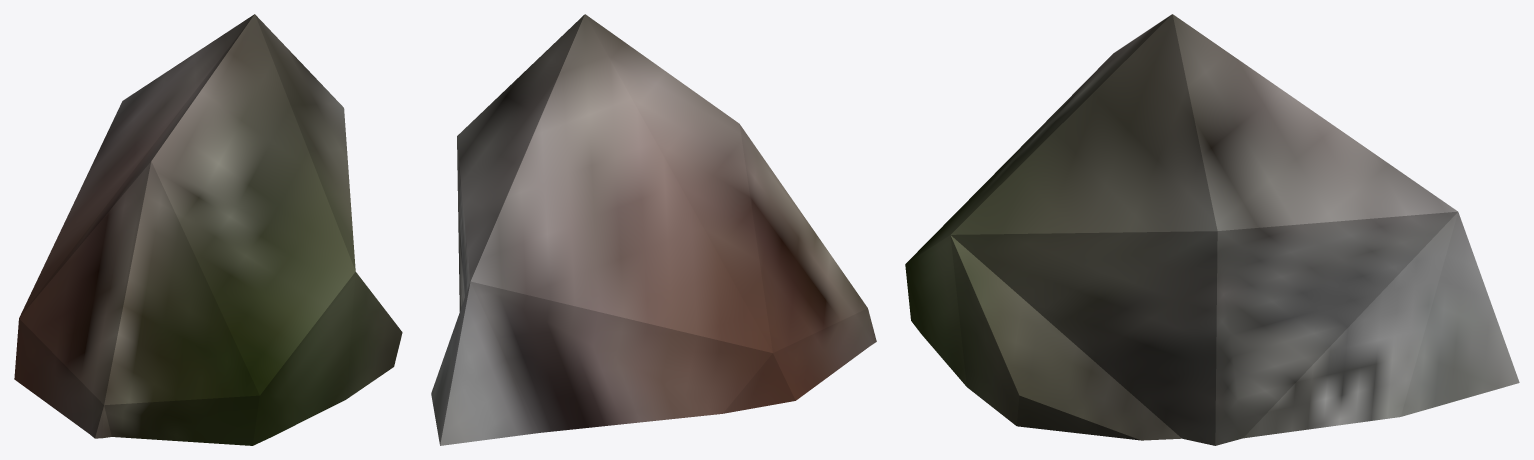
The picture shows the model from 3 angles, left to right: view 1: azimuth 30°, elevation 25°; view 2: azimuth 150°, elevation 25°; view 3: azimuth 270°, elevation 25°; orthographic projection. The views are drawn at different scales.
Bounding box in the file's own units: 0.0486 × 0.0446 × 0.0668.
Materials: 1 (1 with a texture image).
